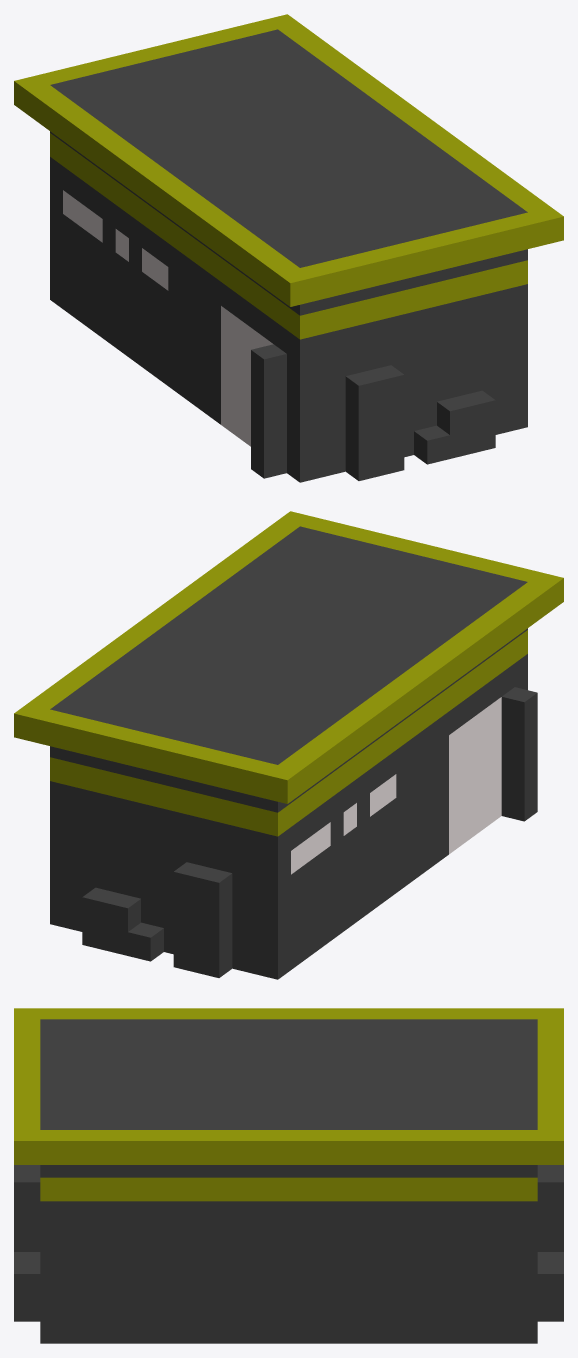
Rendered from torinoCyberPunk-28.obj.
3 views of the same model, one above another, from view 1: azimuth 30°, elevation 25°; view 2: azimuth 150°, elevation 25°; view 3: azimuth 270°, elevation 25° (orthographic).
Size of the model in its own units: 1.2 by 0.9 by 2.1.
1 material, 1 textured.
